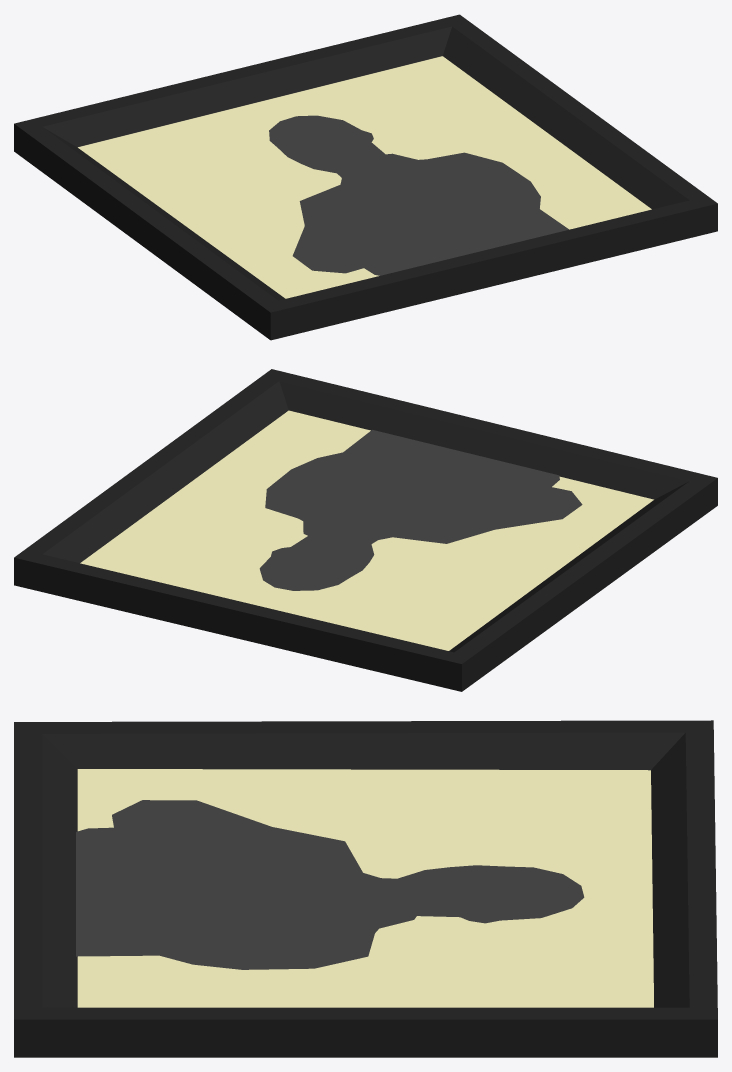
File: wall-art.glb
The picture shows the model from 3 angles, top to bottom: view 1: azimuth 30°, elevation 25°; view 2: azimuth 150°, elevation 25°; view 3: azimuth 270°, elevation 25°; orthographic projection. The views are drawn at different scales.
Parts seen in each view (by area): view 1: picture_005; view 2: picture_005; view 3: picture_005.
Boxes of the visible parts, bbox=[...] form: picture_005: bbox=[14, 14, 717, 340]; picture_005: bbox=[14, 369, 717, 691]; picture_005: bbox=[14, 720, 717, 1057].
Bounding box in the file's own units: 1.26 × 0.0779 × 1.26.
Materials: 1 (1 with a texture image).
